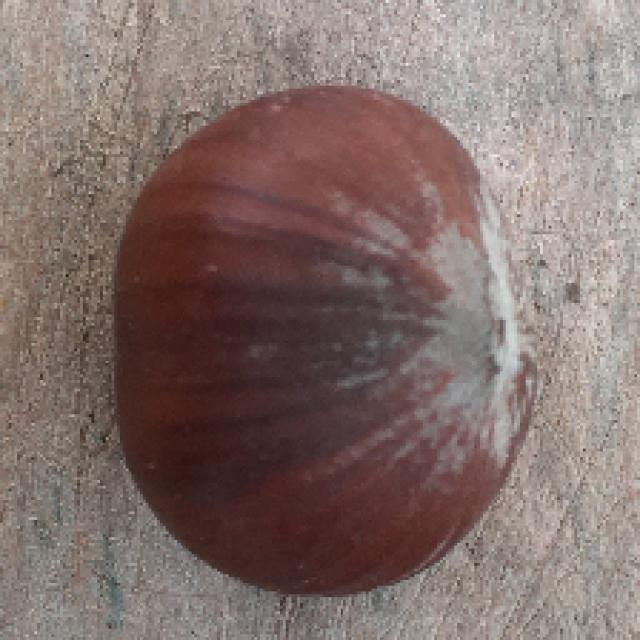DamagedHazelnut: (110, 86, 545, 598)
